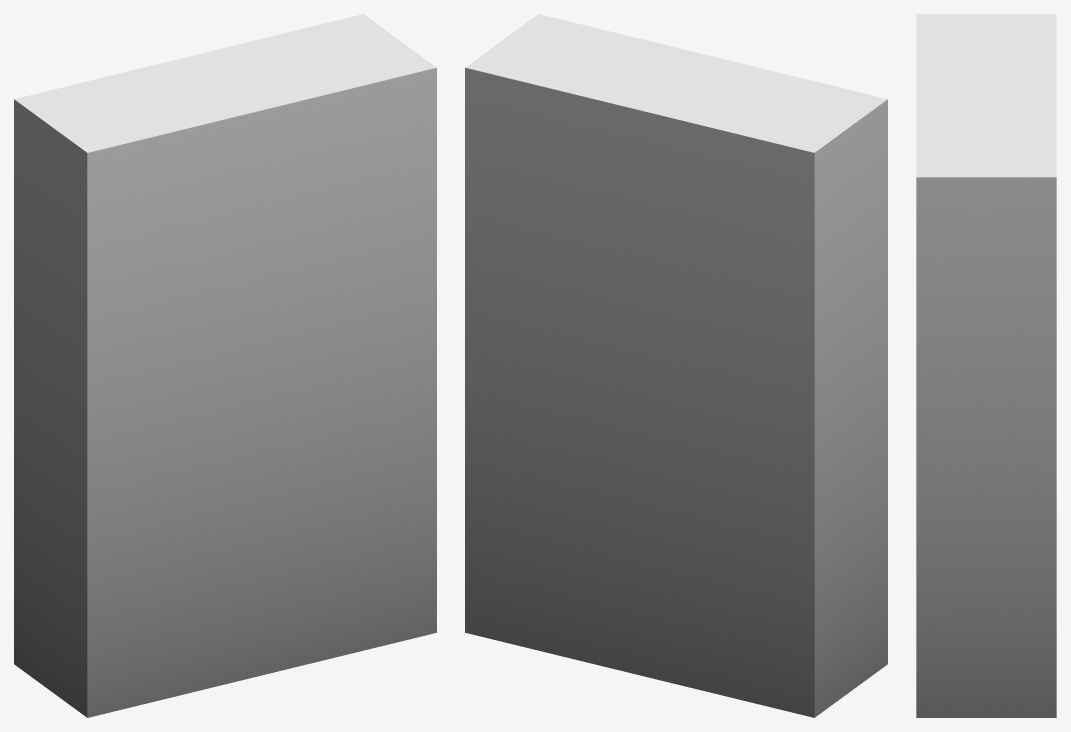
Rendered from 2022-06-premezcla.fbx.
3 renders of one model, left to right at view 1: azimuth 30°, elevation 25°; view 2: azimuth 150°, elevation 25°; view 3: azimuth 270°, elevation 25°, orthographic. The views are drawn at different scales.
Visible parts, largest first — view 1: 02_obj_premezcla; view 2: 02_obj_premezcla; view 3: 02_obj_premezcla.
Boxes of the visible parts, <box> form: 02_obj_premezcla: <box>14,14,436,717</box>; 02_obj_premezcla: <box>465,14,887,717</box>; 02_obj_premezcla: <box>916,14,1056,717</box>.
Size of what is drawn, in the model's own units: 11 by 17 by 4.
Materials: 1 (1 with a texture image).
